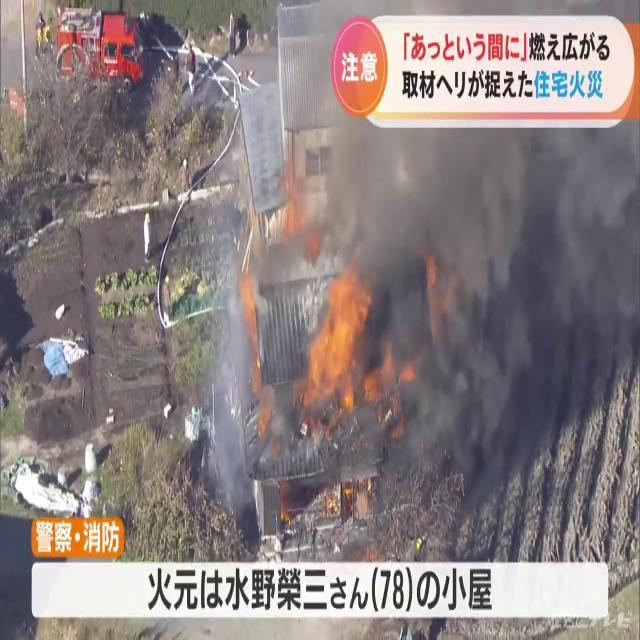Fire: (296, 262, 376, 419)
Smoke: (339, 113, 640, 514)
